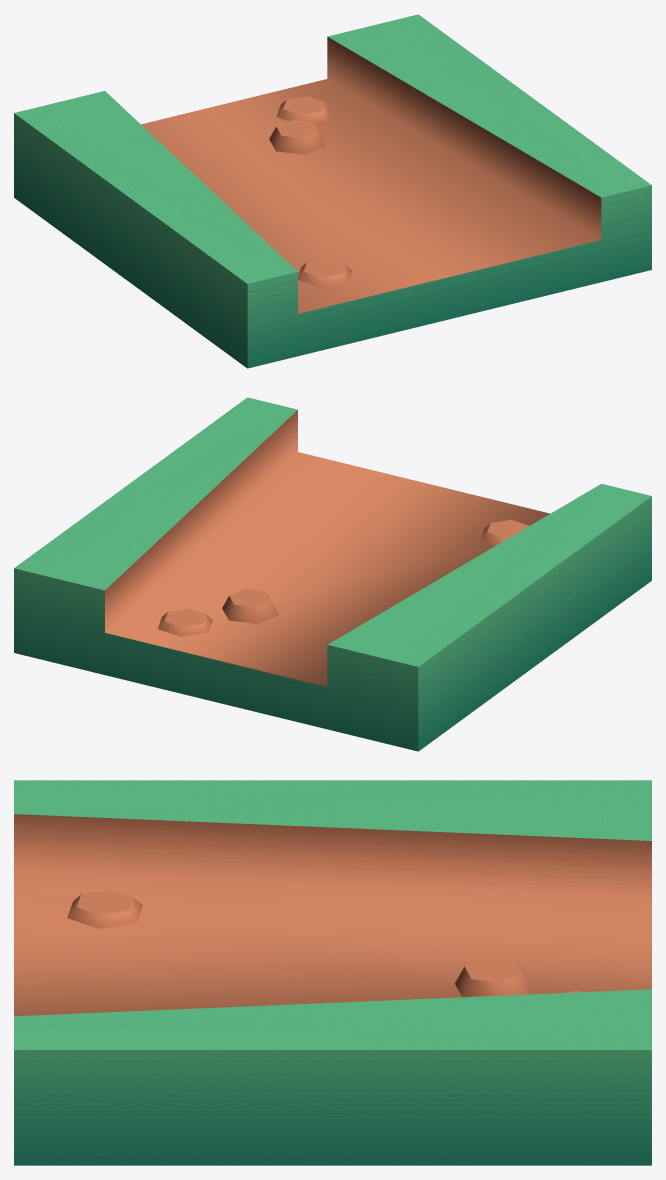
Rendered from tower-defense-kit--tile-transition.glb.
3 views of the same model, one above another, from view 1: azimuth 30°, elevation 25°; view 2: azimuth 150°, elevation 25°; view 3: azimuth 270°, elevation 25° (orthographic). The views are drawn at different scales.
Visible parts, largest first — view 1: tile-transition; view 2: tile-transition; view 3: tile-transition.
Boxes of the visible parts, x1,y1,x2,y2 form: tile-transition: (14,14,651,368); tile-transition: (14,397,651,751); tile-transition: (14,780,651,1165).
Size of the model in its own units: 1 by 0.2 by 1.
Materials: 1 (1 with a texture image).
